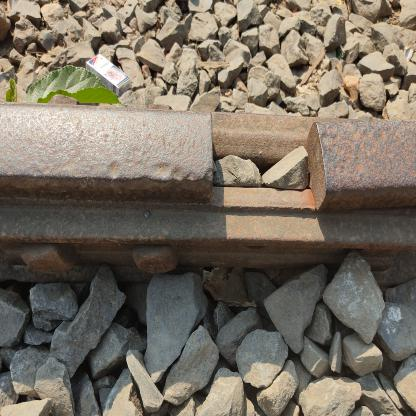Defective 2: (178, 100, 358, 225)
Defective 3: (0, 187, 415, 295)
